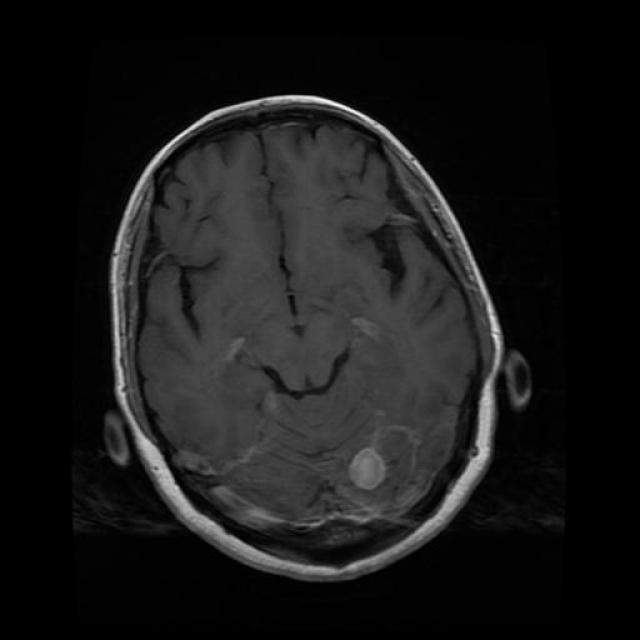Brain-Tumor: (341, 440, 396, 496)
